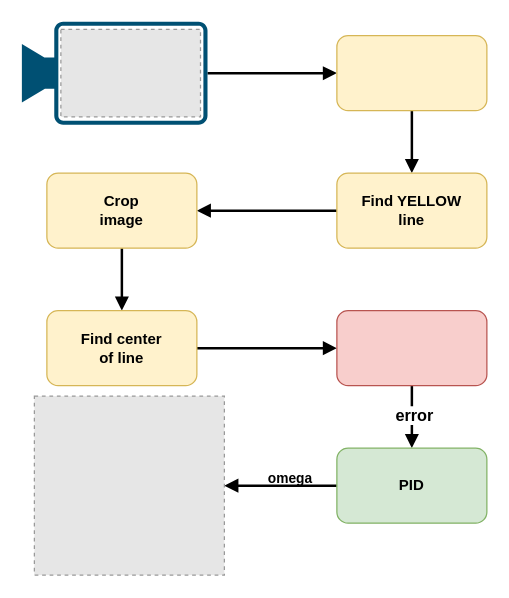
Some shapes in this 509 by 598 pixel diagram are drawn without their labels. Grey dashed boxes stand in for pictures. Here are the shapes that lost their labels. From the top down, the box of each, then its label:
(336, 34, 487, 111): Convert BGR2HSV
(336, 309, 487, 386): Compute ERROR
